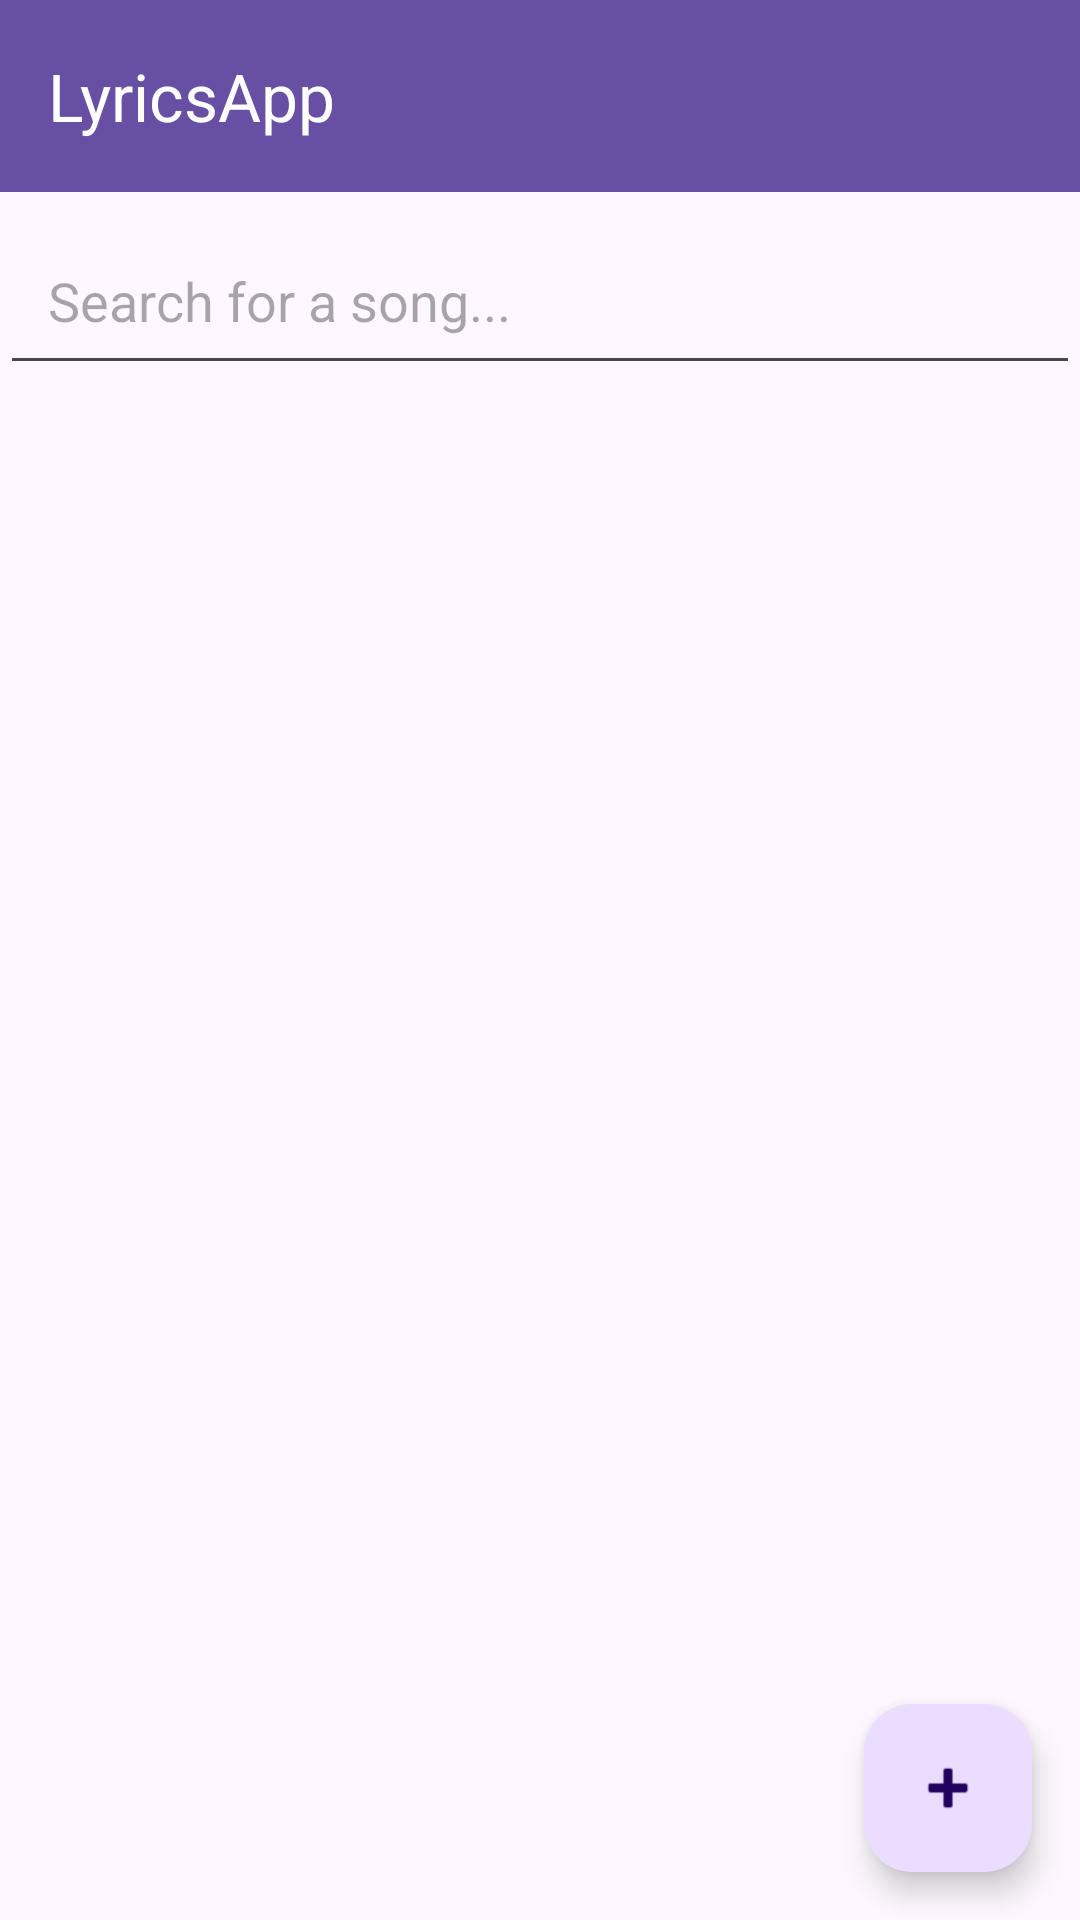

Point at icon controls on the screen. Image size 1080px x 1920px, points as (x,y).
Add song: (948,1788)
